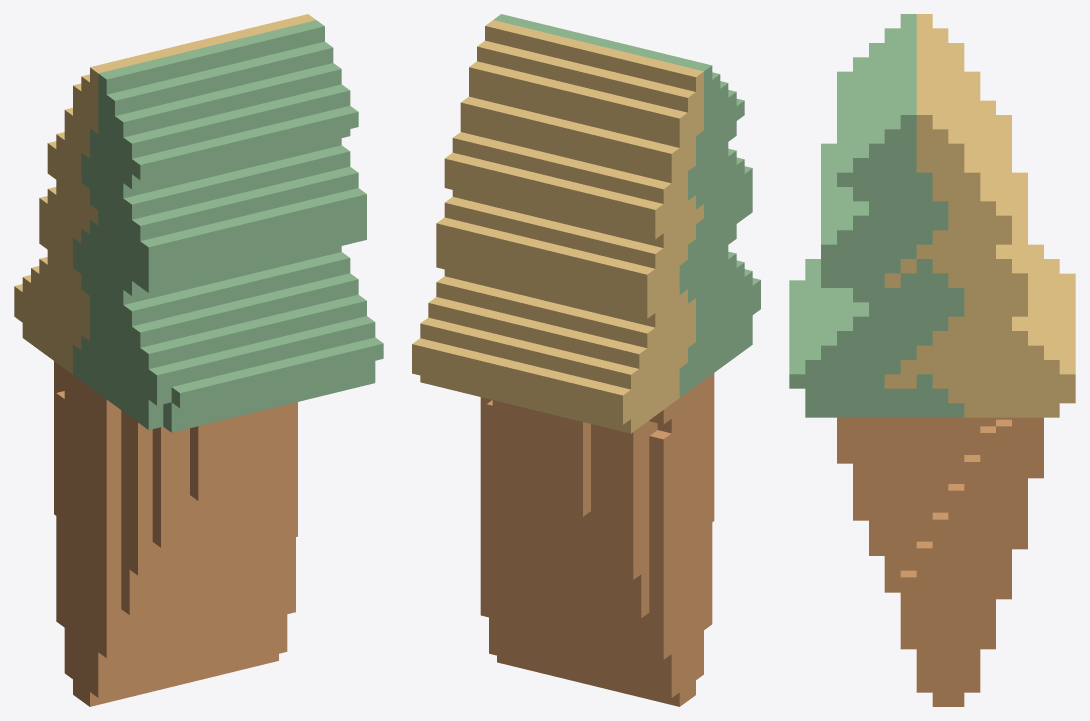
File: Eruption-11.obj
The picture shows the model from 3 angles, left to right: view 1: azimuth 30°, elevation 25°; view 2: azimuth 150°, elevation 25°; view 3: azimuth 270°, elevation 25°; orthographic projection. The views are drawn at different scales.
Size of the model in its own units: 1.5 by 4.2 by 1.8.
1 material, 1 textured.
